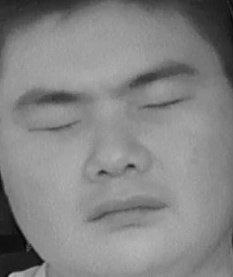blink: (27, 110, 82, 145), (139, 87, 191, 119)
mouth: (81, 191, 171, 234)
